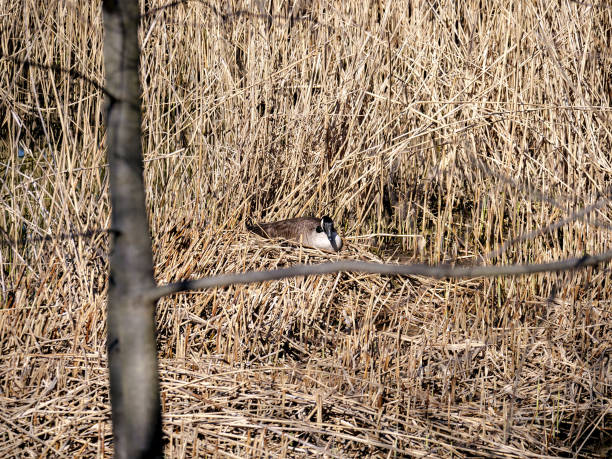goose: (245, 213, 343, 255)
